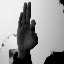f: (16, 1, 39, 49)
